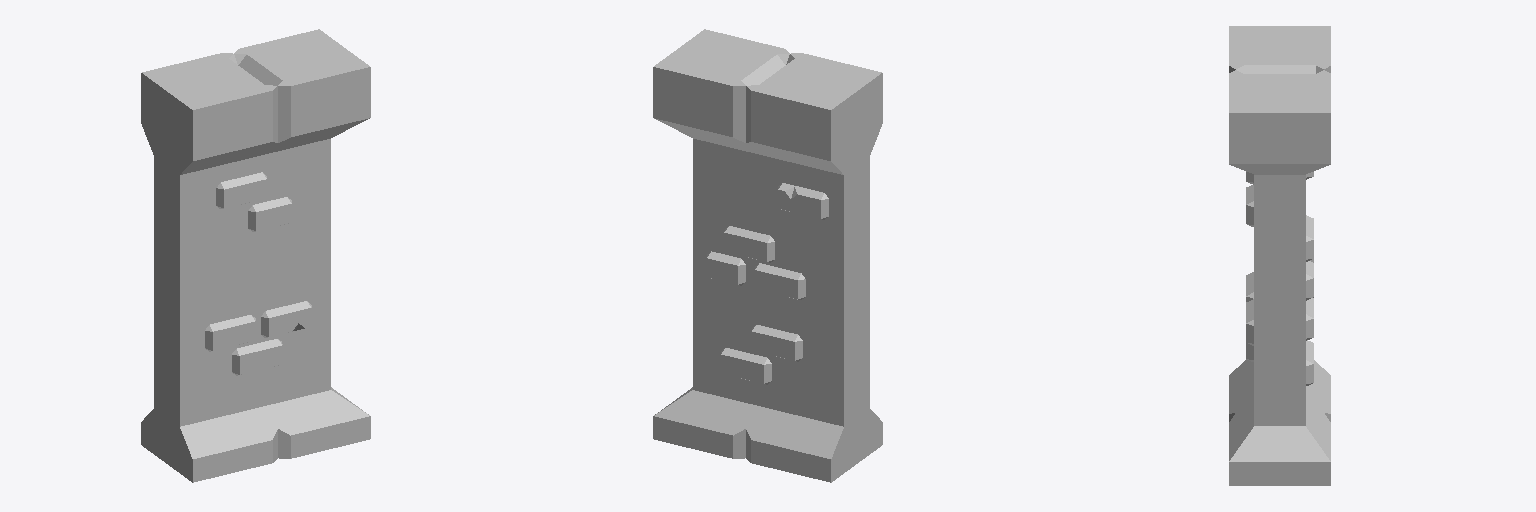
Rendered from wall_half_endcap.obj.
3 views of the same model, side by side, from view 1: azimuth 30°, elevation 25°; view 2: azimuth 150°, elevation 25°; view 3: azimuth 270°, elevation 25° (orthographic).
Visible parts, largest first — view 1: wall_half_endcap_Cube.13152; view 2: wall_half_endcap_Cube.13152; view 3: wall_half_endcap_Cube.13152.
Boxes of the visible parts, x1,y1,x2,y2 form: wall_half_endcap_Cube.13152: [141, 29, 370, 482]; wall_half_endcap_Cube.13152: [653, 29, 882, 482]; wall_half_endcap_Cube.13152: [1229, 26, 1330, 485].
Bounding box in the file's own units: 2 × 4 × 1.